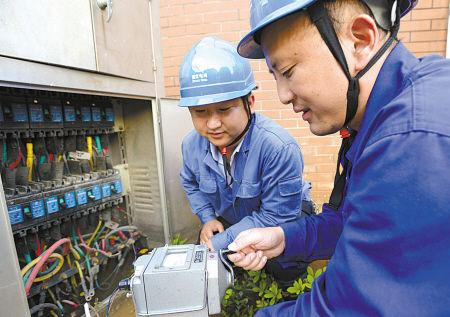hard-hat: (236, 0, 419, 58), (176, 35, 256, 107)
person: (225, 0, 450, 316), (177, 35, 324, 295)
vest: (179, 111, 313, 250)
